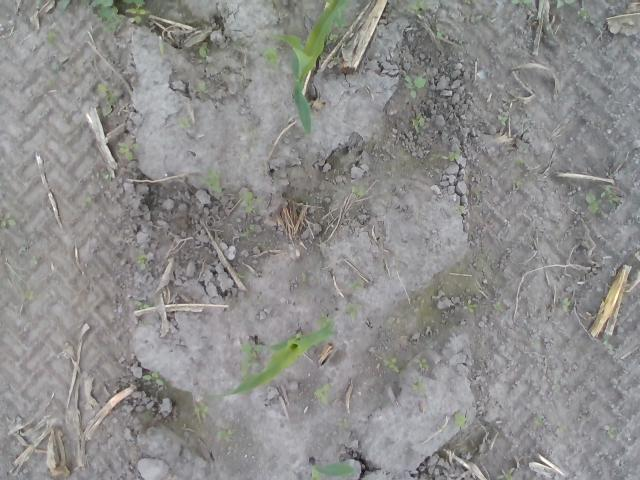Maize: (273, 0, 353, 137), (205, 318, 338, 400), (306, 457, 355, 480)
Weeds: (585, 184, 621, 214), (92, 0, 120, 33), (96, 80, 118, 118), (122, 0, 150, 26), (198, 165, 224, 192), (403, 73, 431, 98), (327, 15, 349, 45), (252, 46, 282, 66), (578, 6, 602, 30), (242, 190, 264, 216), (429, 146, 462, 162), (240, 341, 252, 378), (118, 142, 140, 162), (313, 382, 332, 404), (406, 0, 431, 16), (192, 42, 210, 63), (414, 112, 431, 134), (142, 372, 168, 386), (382, 356, 400, 374), (0, 211, 17, 229), (217, 423, 233, 442), (240, 223, 256, 241), (134, 252, 148, 272), (351, 180, 369, 195), (510, 0, 536, 10), (454, 414, 471, 429), (130, 299, 153, 310), (192, 402, 210, 416), (469, 15, 496, 24), (412, 379, 426, 396), (345, 303, 359, 320), (463, 300, 480, 314), (58, 0, 72, 16), (195, 80, 209, 96), (531, 414, 545, 430), (18, 288, 34, 302), (554, 0, 576, 10), (50, 62, 61, 80), (252, 344, 266, 358), (177, 115, 192, 128), (336, 416, 349, 430), (347, 278, 364, 288), (560, 296, 570, 313), (80, 196, 94, 208), (512, 175, 526, 187), (497, 112, 508, 126), (418, 408, 433, 418), (47, 31, 57, 45), (416, 358, 428, 368), (320, 313, 329, 326), (78, 0, 90, 9), (31, 255, 41, 265), (159, 44, 168, 55), (493, 302, 502, 312), (516, 158, 526, 167), (231, 40, 241, 49), (34, 0, 43, 9), (607, 430, 616, 439), (455, 206, 465, 214), (434, 31, 446, 37), (505, 471, 513, 480), (464, 0, 473, 7), (105, 174, 112, 182), (125, 383, 128, 388)
